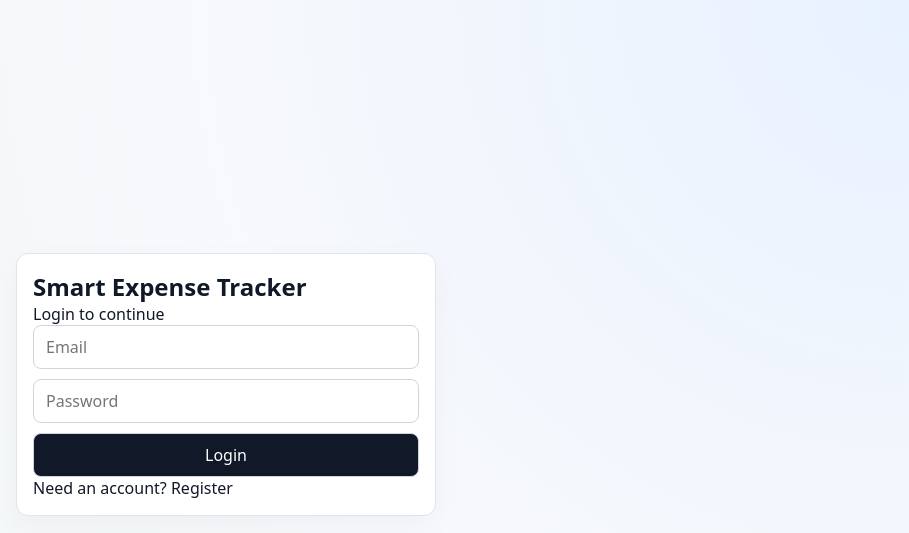
App (logged out) › switches to the register form when the toggle is clicked
Click the button "Need an account? Register": (133, 488) top-left (33, 476), bottom-right (233, 498)
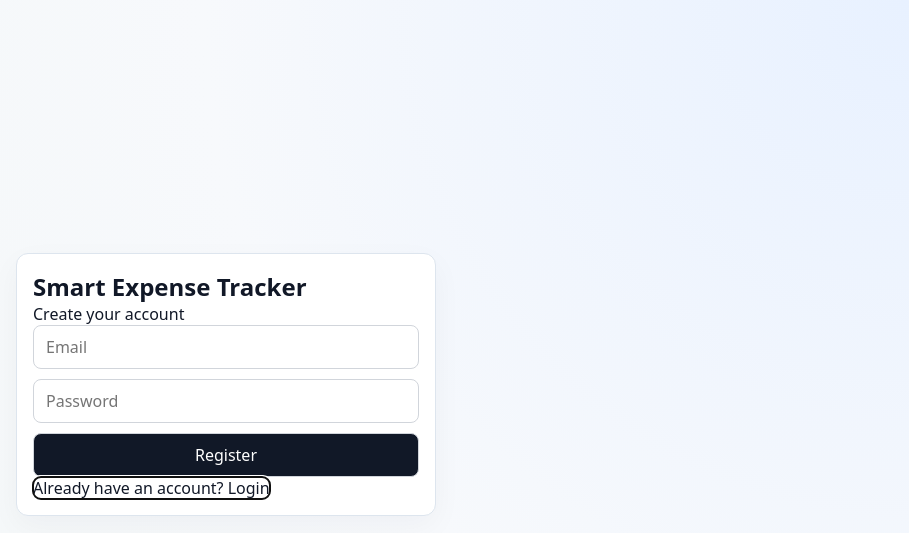
Check: the text "Create your account" is shown, box top-left (33, 302), bottom-right (184, 324)
Check: the button "Register" is shown, box top-left (33, 432), bottom-right (419, 476)
